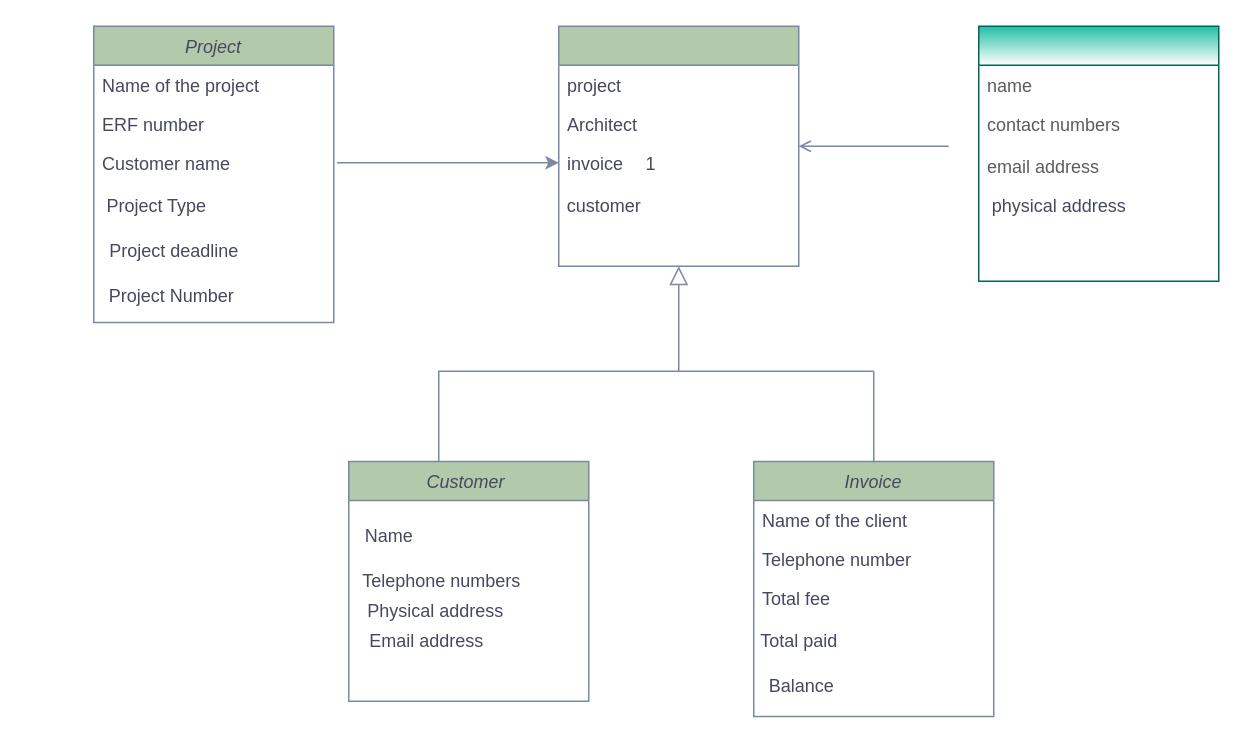
This 1245x744 diagram has some shape labels left out. Each missing label, with the box of its shape:
Architecture: (977, 25, 1219, 281)
ProjectOverview: (557, 25, 799, 266)
